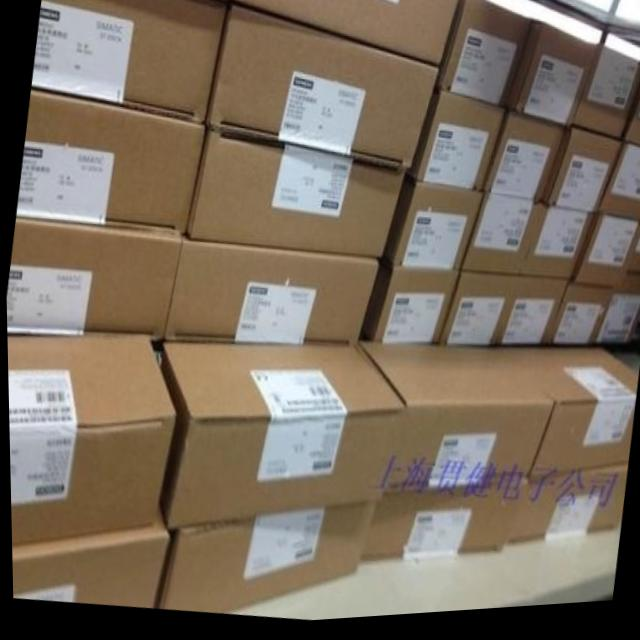box: (157, 343, 405, 533), (205, 7, 438, 175), (6, 336, 176, 546), (358, 346, 553, 498), (15, 87, 203, 237), (186, 133, 404, 262), (31, 0, 228, 127), (156, 508, 374, 617), (162, 242, 377, 348), (5, 218, 183, 341), (499, 354, 637, 484), (10, 504, 168, 611), (230, 0, 458, 71), (359, 485, 527, 565), (435, 0, 533, 115), (500, 472, 626, 553), (407, 95, 505, 197), (507, 26, 596, 136), (393, 186, 483, 275), (482, 115, 565, 209), (541, 133, 623, 221), (569, 53, 640, 149), (460, 199, 542, 281), (373, 272, 459, 350), (438, 276, 517, 350), (518, 213, 594, 288), (569, 223, 640, 297), (495, 285, 567, 353), (546, 291, 612, 353), (595, 151, 640, 228), (622, 93, 640, 156)
